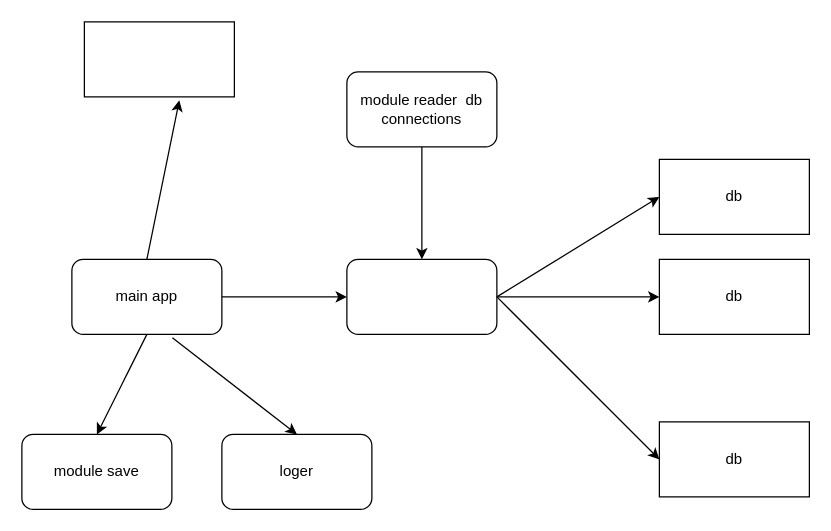
Some shapes in this 831 by 531 pixel diagram are drawn without their labels. Here are the shapes that lost their labels. From the top down, the centre of each, then its label:
At point 158,59: "module download".
At point 421,296: "module run".
